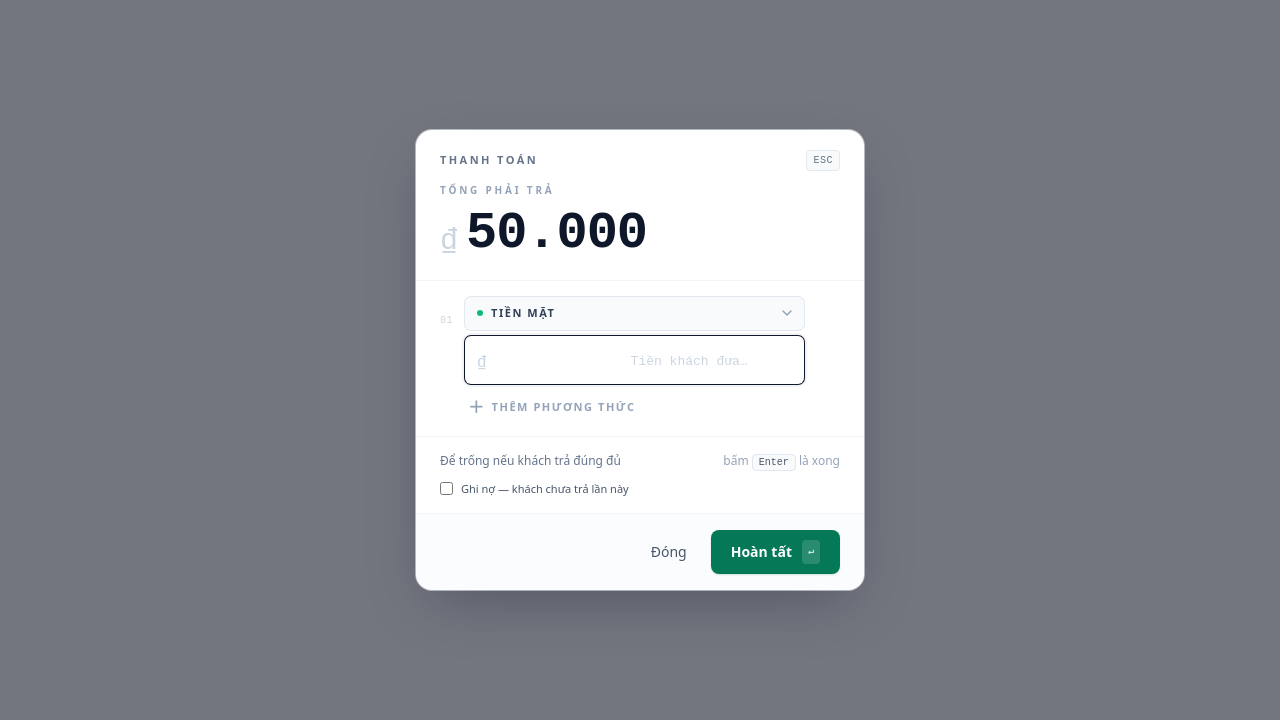
Test: PaymentDialog › shows debt checkbox when cashier types less than total and a customer is selected
In the field named "Tiền khách đưa 1": point(621, 360) [495,346,748,374], type "30000"
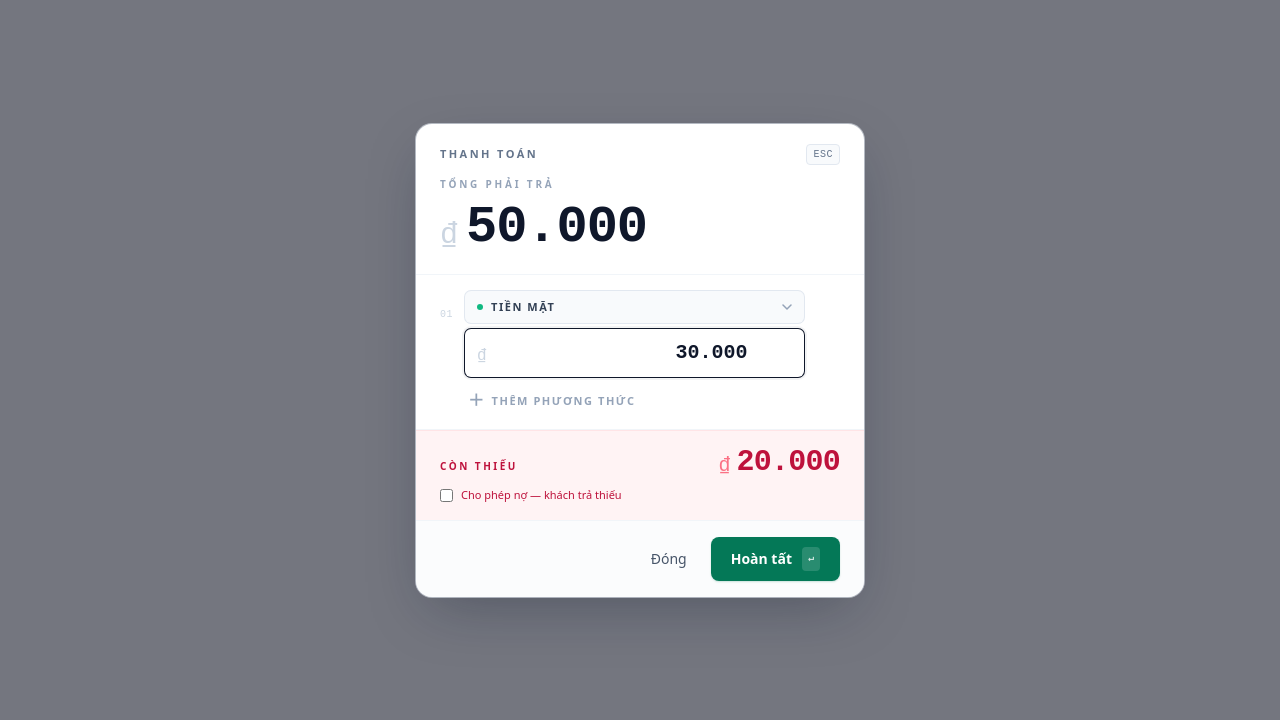
expect the checkbox labelled "Cho phép nợ" is shown: met, box [440,489,453,502]
expect the text "Còn thiếu" is shown: met, box [440,459,518,474]
